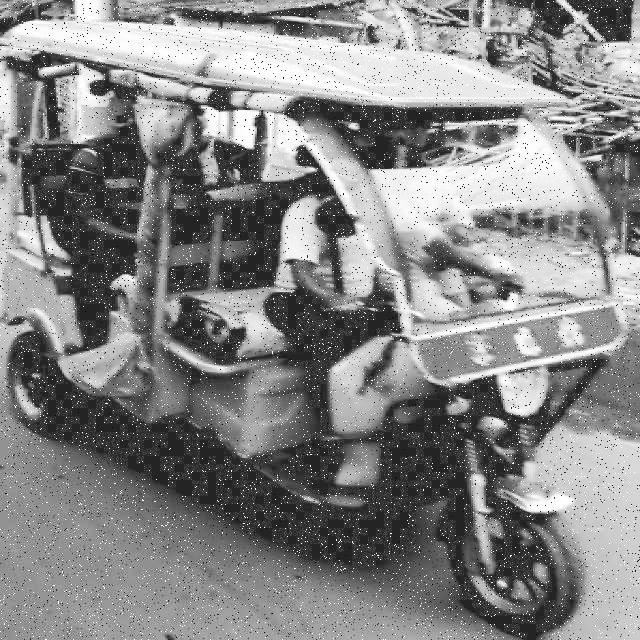Toto: (2, 14, 594, 630)
